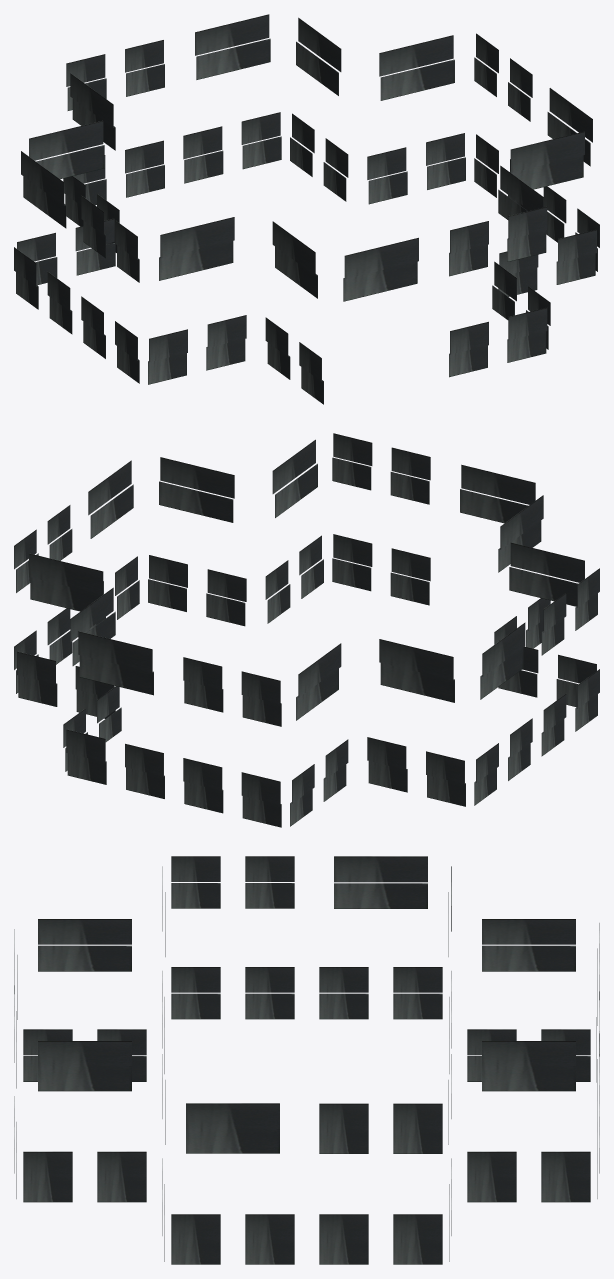
The model's file is TRANS_Building_2stiores_House.obj.
3 renders of one model, top to bottom at view 1: azimuth 30°, elevation 25°; view 2: azimuth 150°, elevation 25°; view 3: azimuth 270°, elevation 25°, orthographic. The views are drawn at different scales.
Parts seen in each view (by area): view 1: TRANS_Building_2stiores_House; view 2: TRANS_Building_2stiores_House; view 3: TRANS_Building_2stiores_House.
Boxes of the visible parts, left/top/right/bottom form: TRANS_Building_2stiores_House: left=14, top=14, right=599, bottom=404; TRANS_Building_2stiores_House: left=14, top=433, right=599, bottom=827; TRANS_Building_2stiores_House: left=14, top=856, right=599, bottom=1264.
Size of the model in its own units: 5.2 by 1.59 by 5.2.
